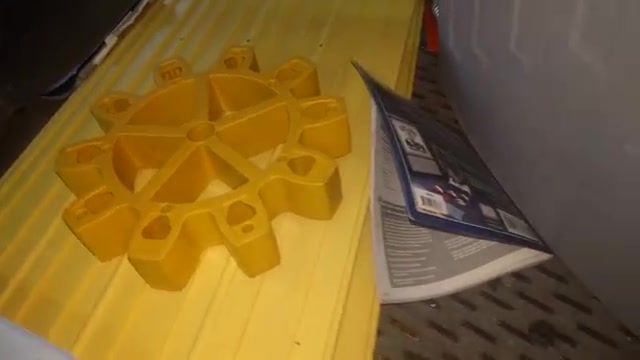gear: (49, 37, 351, 304)
